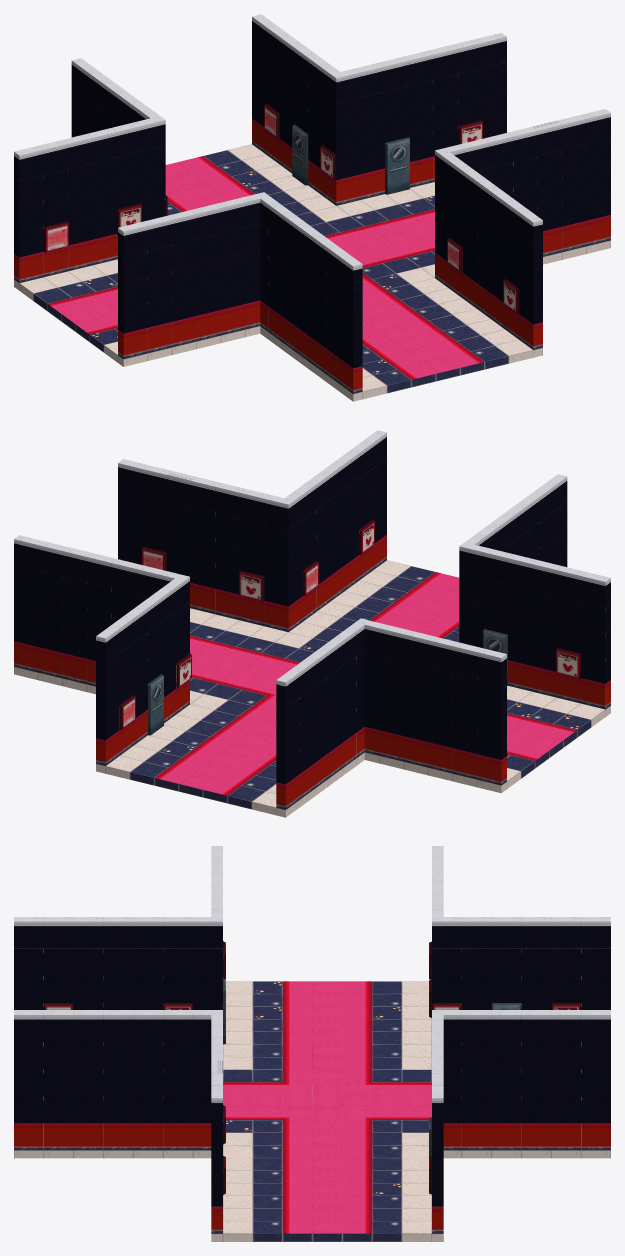
Rendered from CinemaIntersection.fbx.
The picture shows the model from 3 angles, top to bottom: view 1: azimuth 30°, elevation 25°; view 2: azimuth 150°, elevation 25°; view 3: azimuth 270°, elevation 25°; orthographic projection. The views are drawn at different scales.
Visible parts, largest first — view 1: Intersection; view 2: Intersection; view 3: Intersection.
Boxes of the visible parts, x1=… form: Intersection: x1=14, y1=14, x2=610, y2=401; Intersection: x1=14, y1=430, x2=610, y2=817; Intersection: x1=14, y1=846, x2=610, y2=1241.
Bounding box in the file's own units: 2000 × 530 × 2000.
